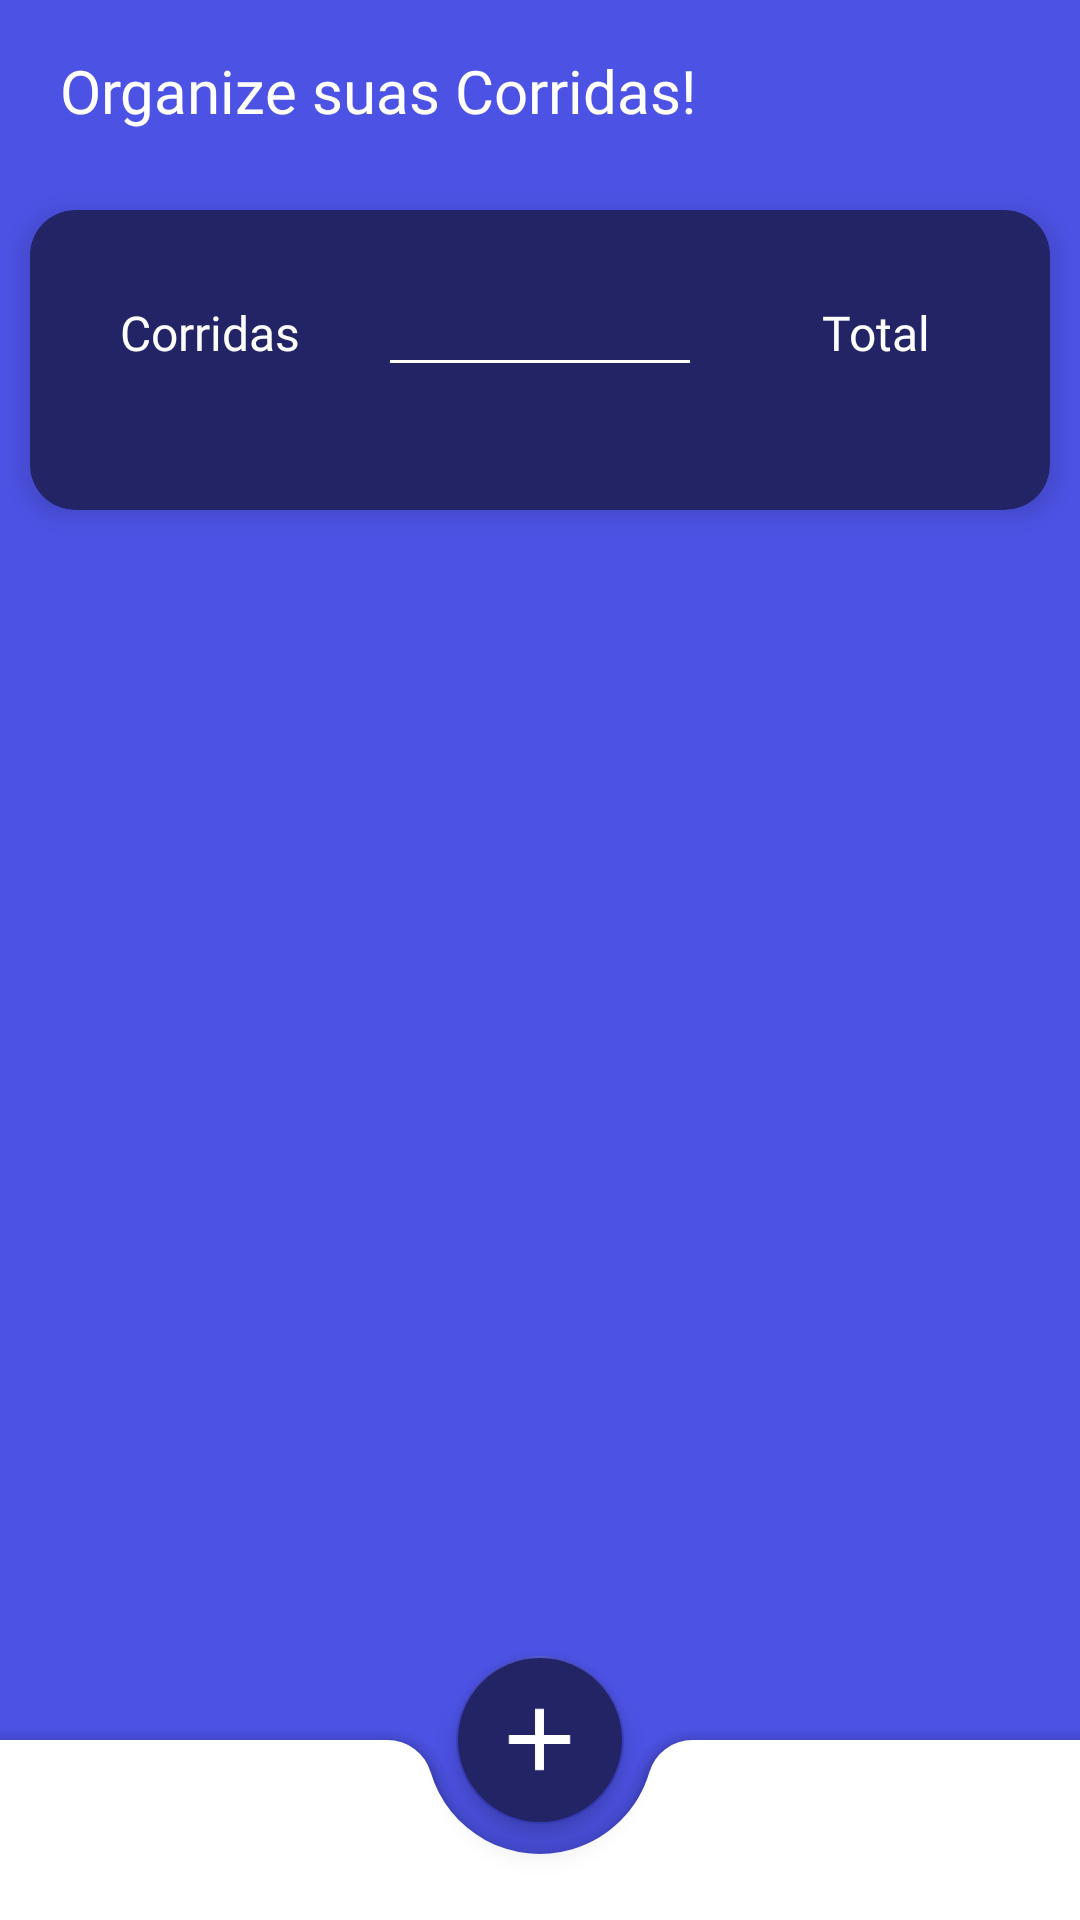

Icon click points for this 1080px x 1920px phone screenshot, format (x=x, y=y):
Criar Registro: (x=540, y=1740)
